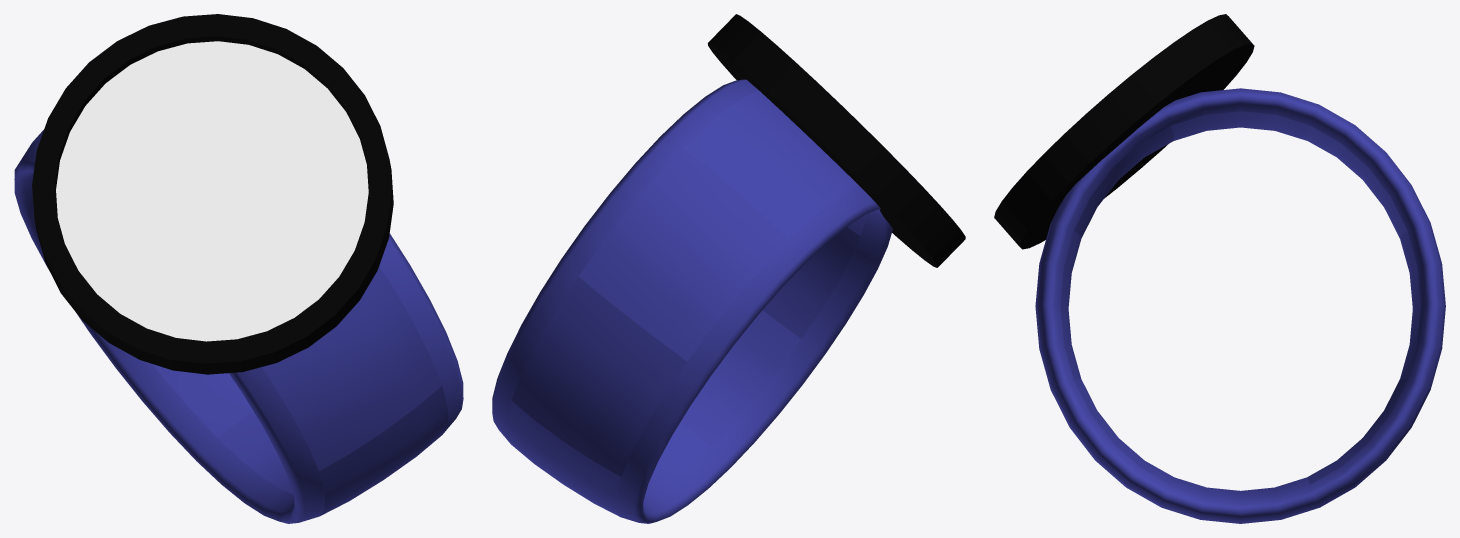
File: Watch.fbx
The picture shows the model from 3 angles, left to right: view 1: azimuth 30°, elevation 25°; view 2: azimuth 150°, elevation 25°; view 3: azimuth 270°, elevation 25°; orthographic projection. The views are drawn at different scales.
Parts seen in each view (by area): view 1: Watch; view 2: Watch; view 3: Watch.
Part boxes in pixels (x1,y1,x2,y2): Watch: (14,14,463,523); Watch: (492,14,965,523); Watch: (994,14,1445,523).
Size of the model in its own units: 64.29 by 77.91 by 70.35.
